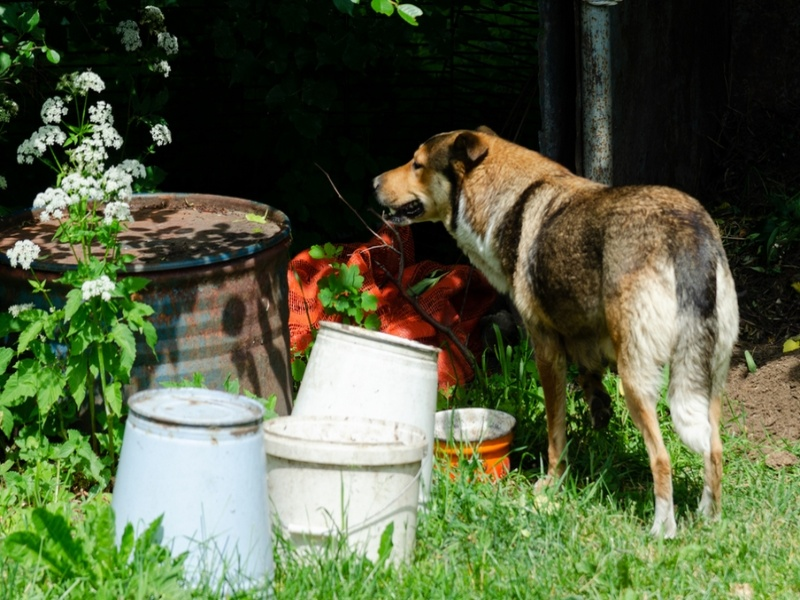dog: (376, 119, 743, 539)
